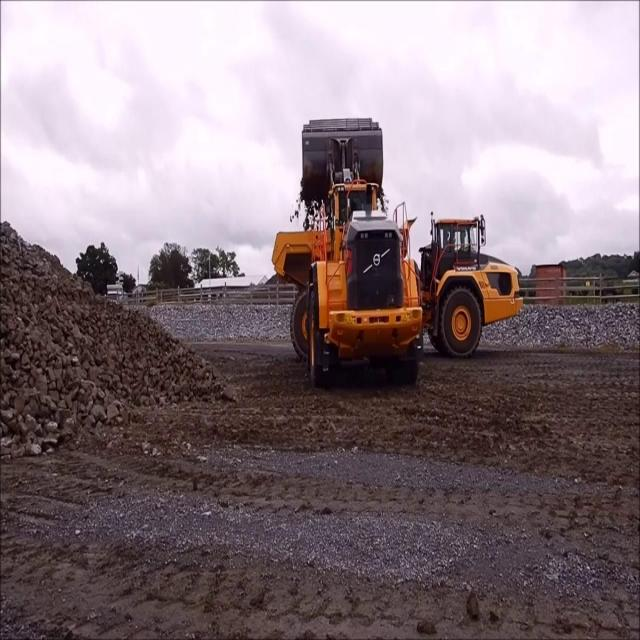Dump Truck: (275, 215, 525, 359)
Loader: (299, 112, 424, 396)
